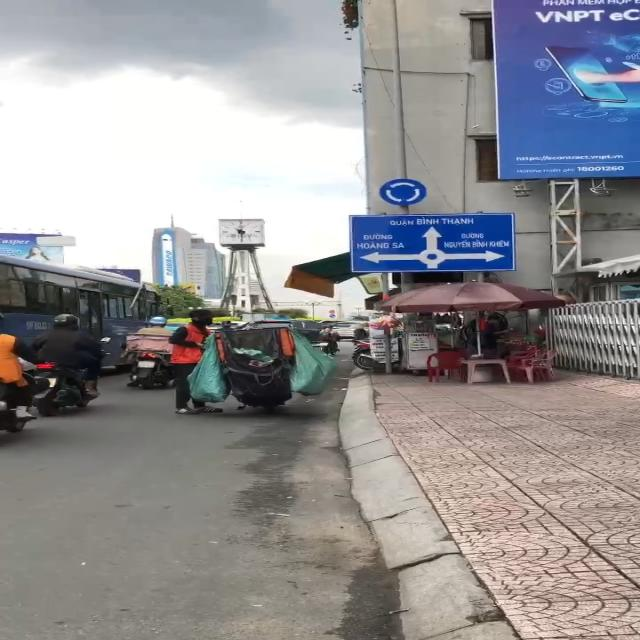Bien bao noi giao nhau chay theo vong xuyen: (377, 176, 430, 208)
